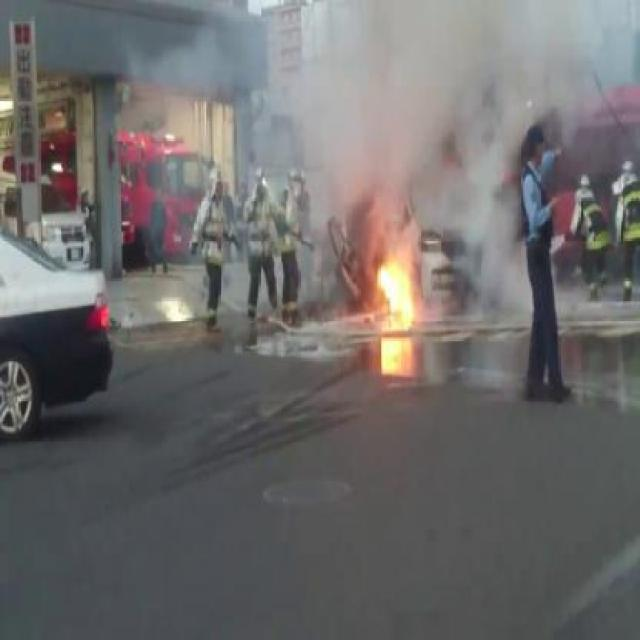Fire: (374, 260, 414, 318)
